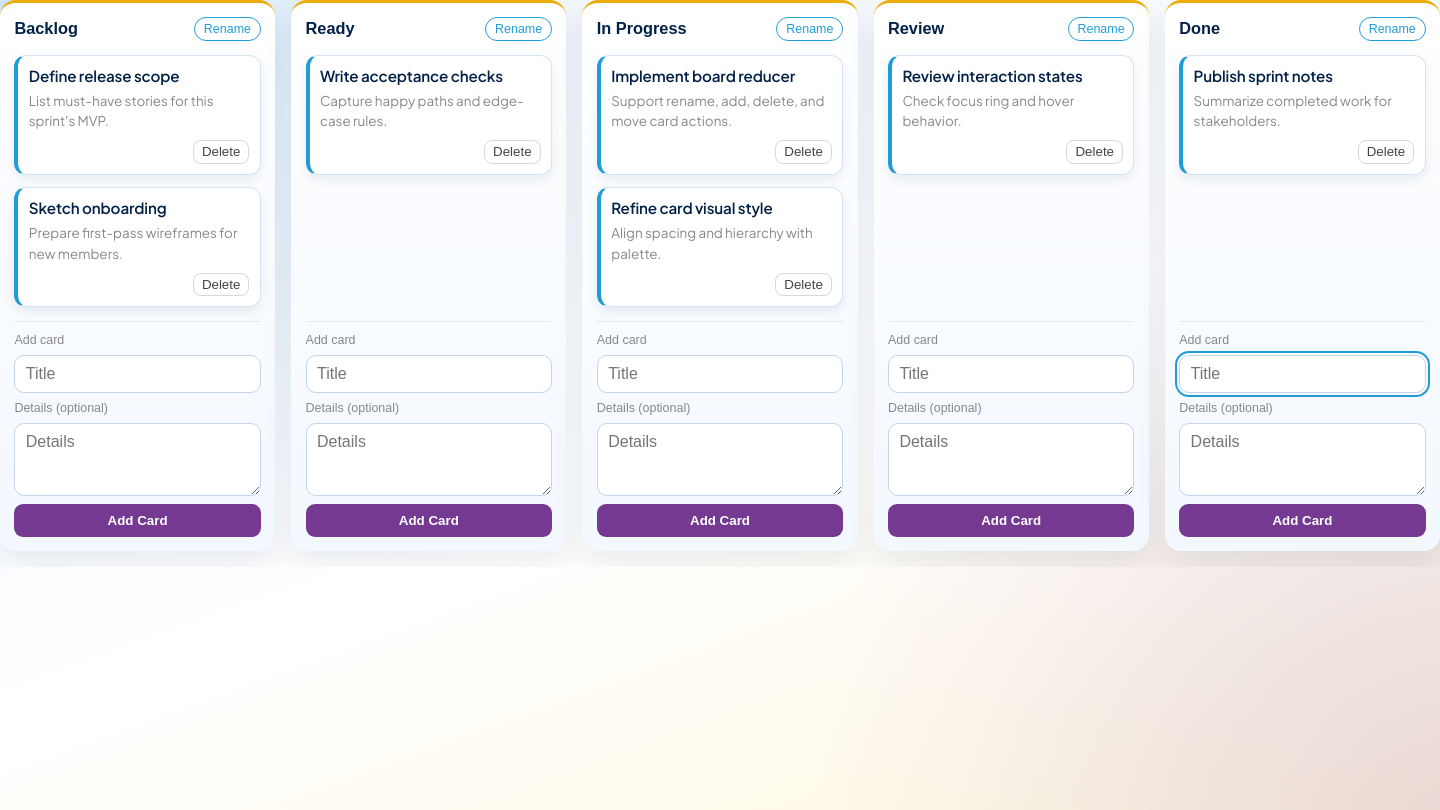
it: Board › allows renaming a column and blocks empty titles
Click the button "Rename" next to "Backlog": {"x": 227, "y": 29} [194, 17, 261, 41]
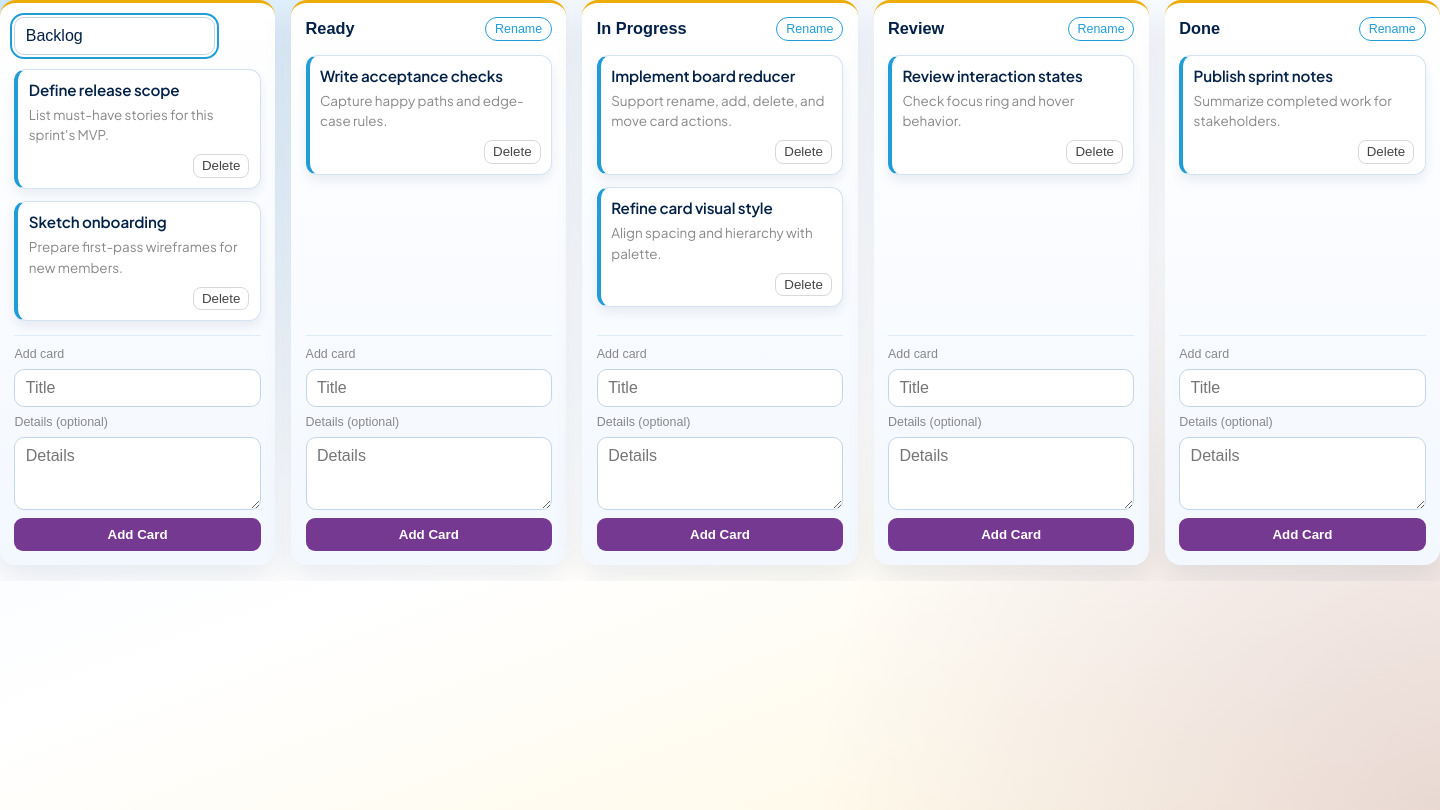
Clear the field named "rename backlog": {"x": 115, "y": 36} [14, 17, 215, 55]
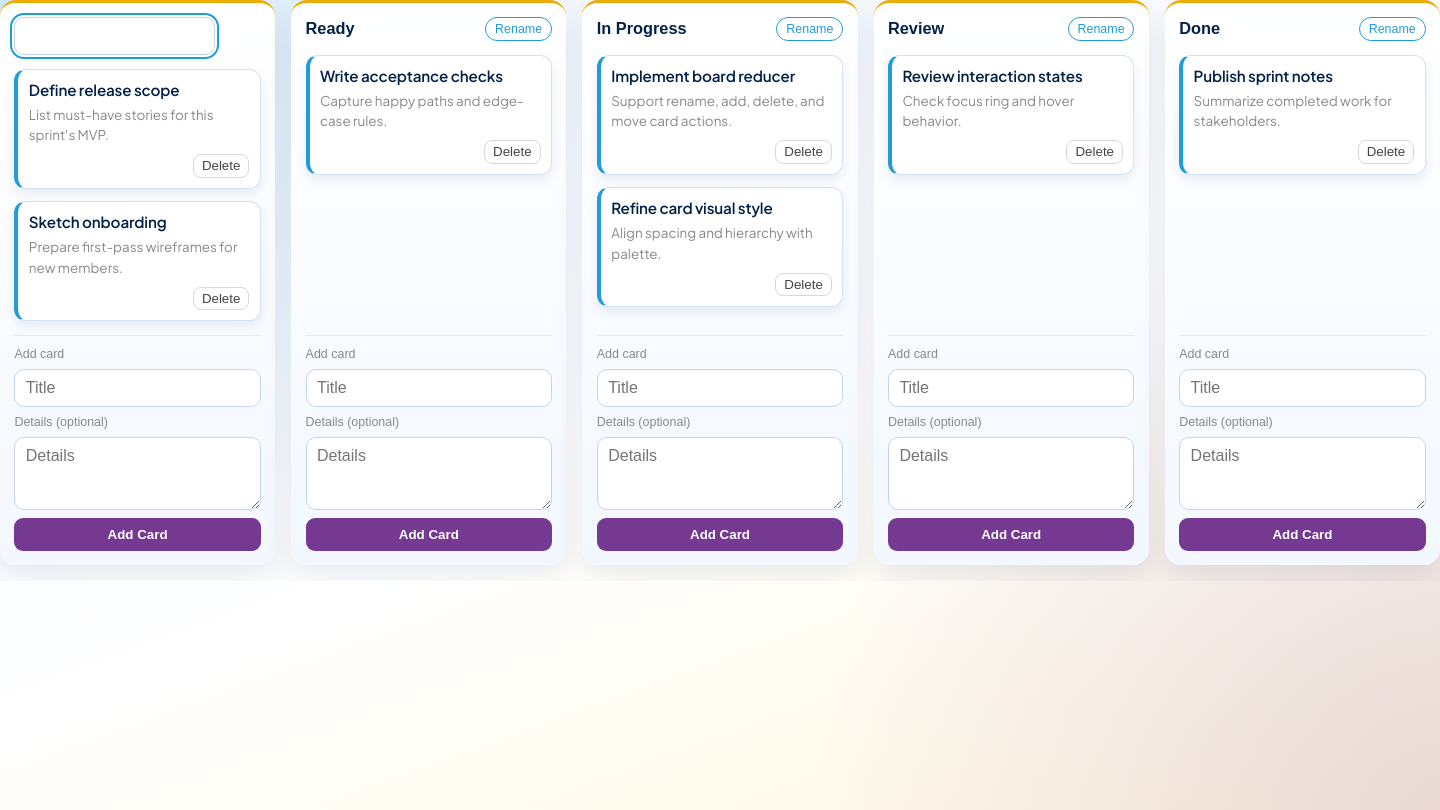
Press Enter
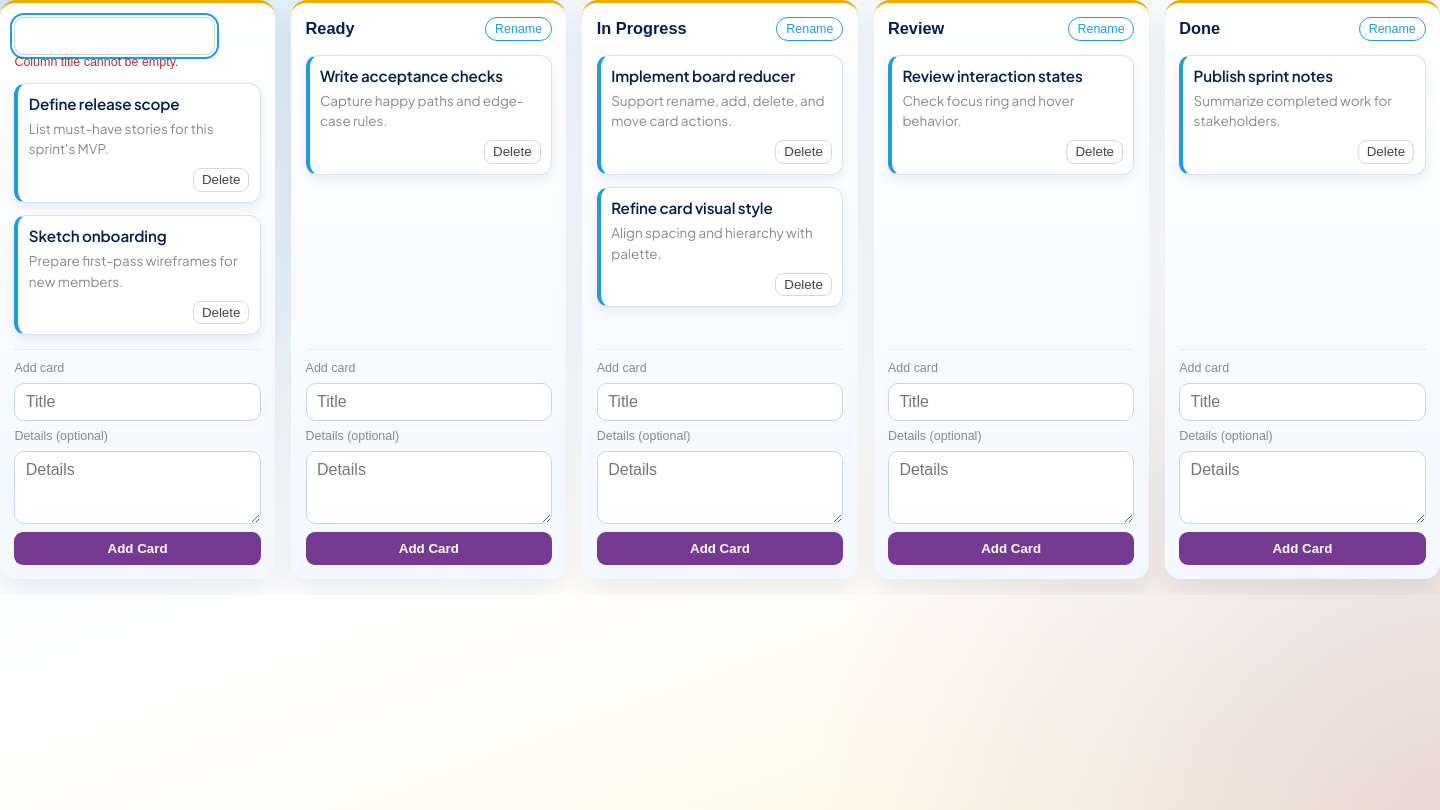
Check: the text "Column title cannot be empty." is shown, box [14, 55, 178, 69]
In the field named "rename backlog": {"x": 115, "y": 36} [14, 17, 215, 55], type "Ideas"
Then press Enter
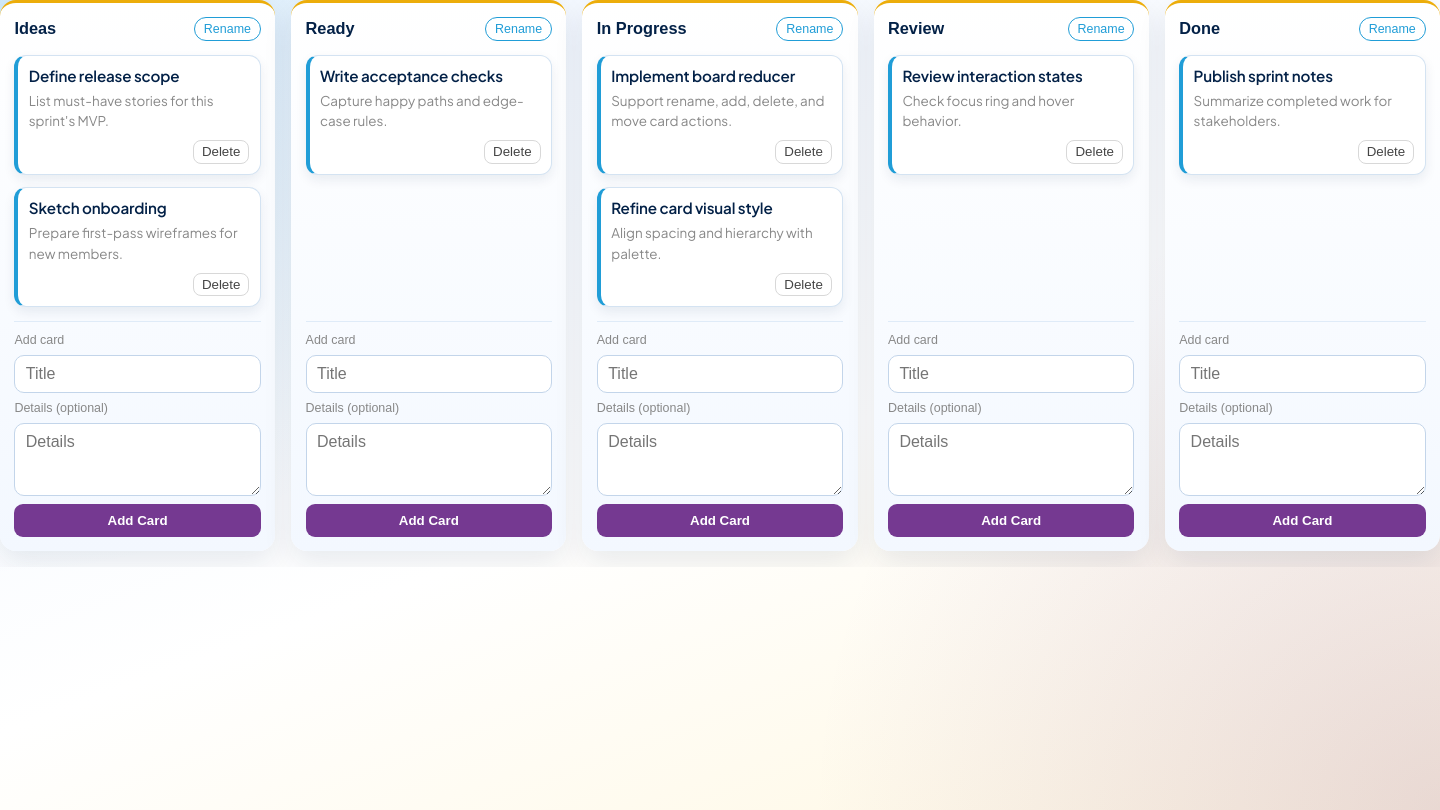
Check: the heading "Ideas" is shown, box [14, 19, 56, 39]
Check: the text "Column title cannot be empty." is gone
